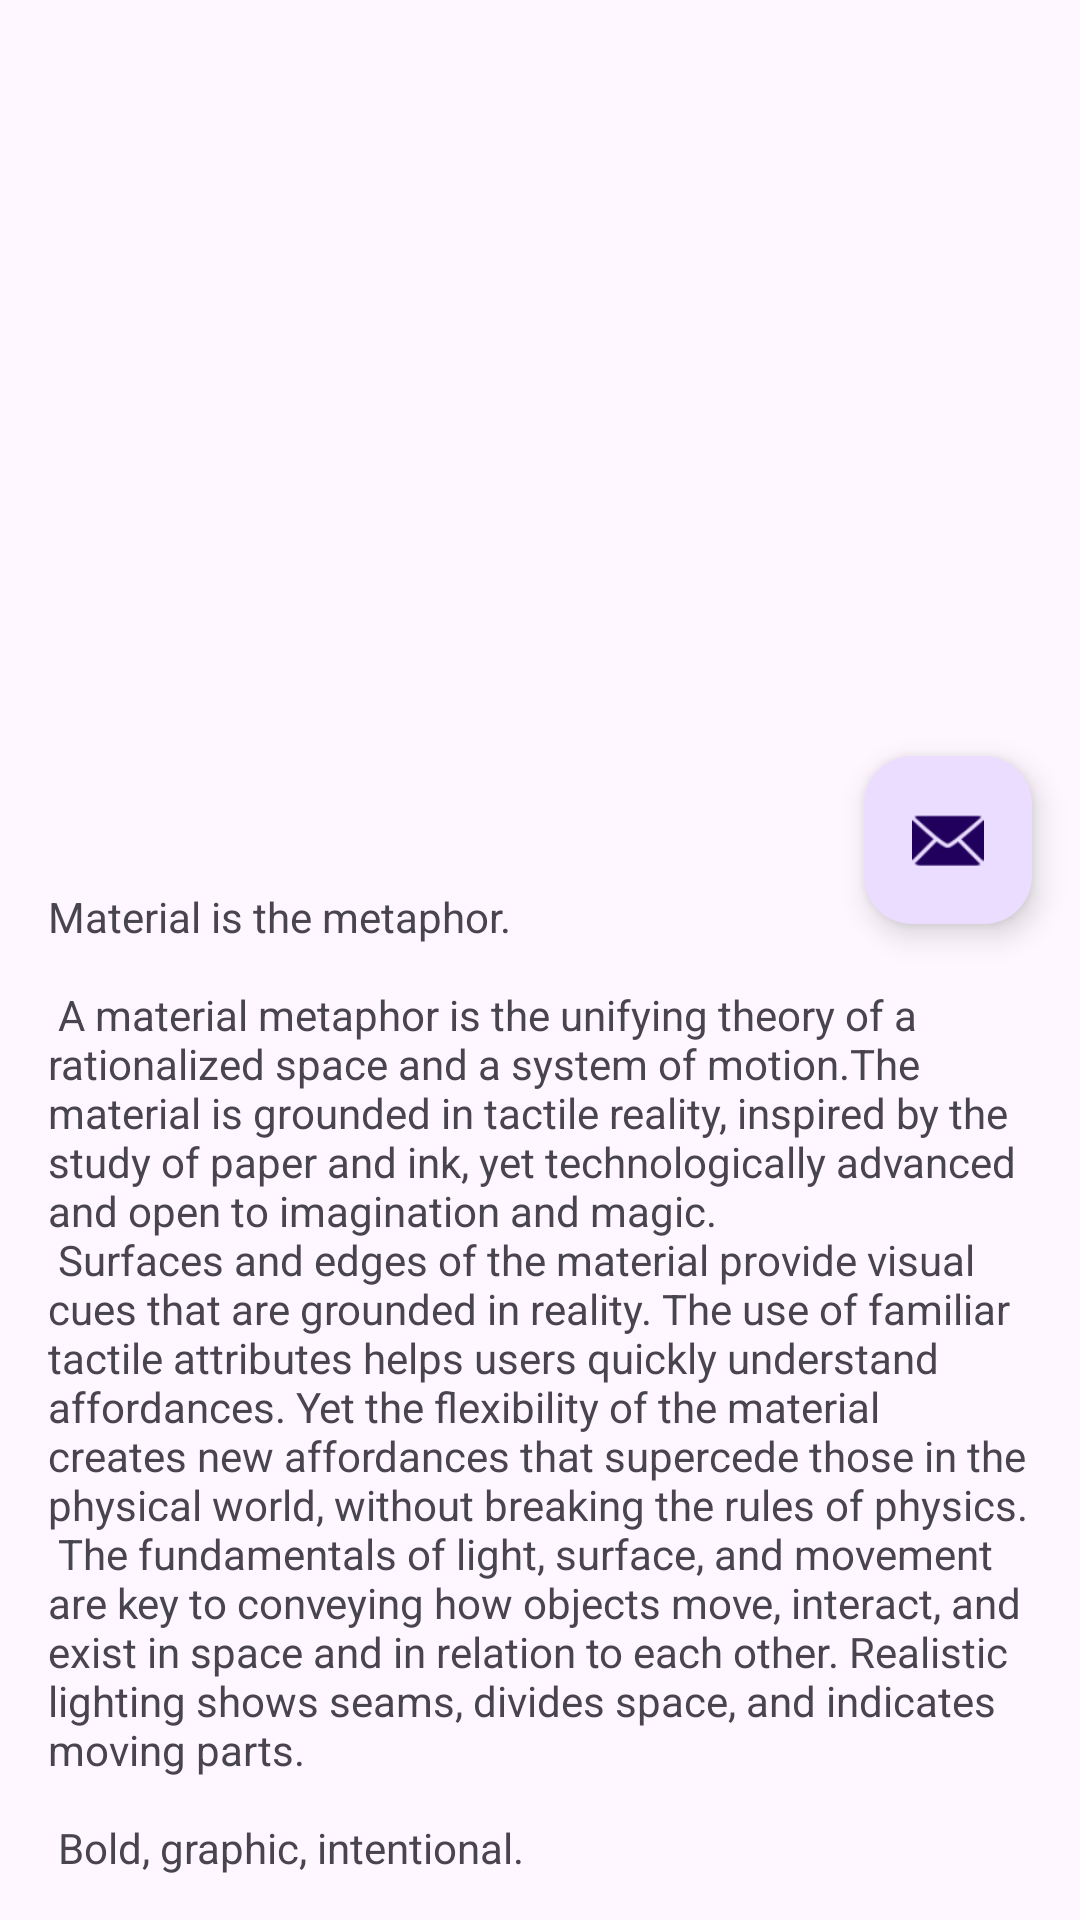

Where icons sit on this 1080x1920 app screen, as (x1, y1, x2, y2):
email: (864, 756, 1032, 924)
